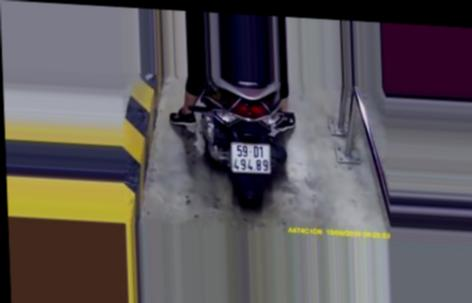License_Plate: (229, 139, 274, 177)
